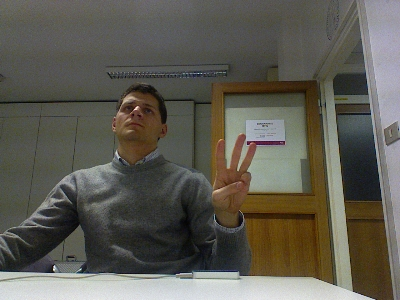三分: (210, 131, 259, 216)
